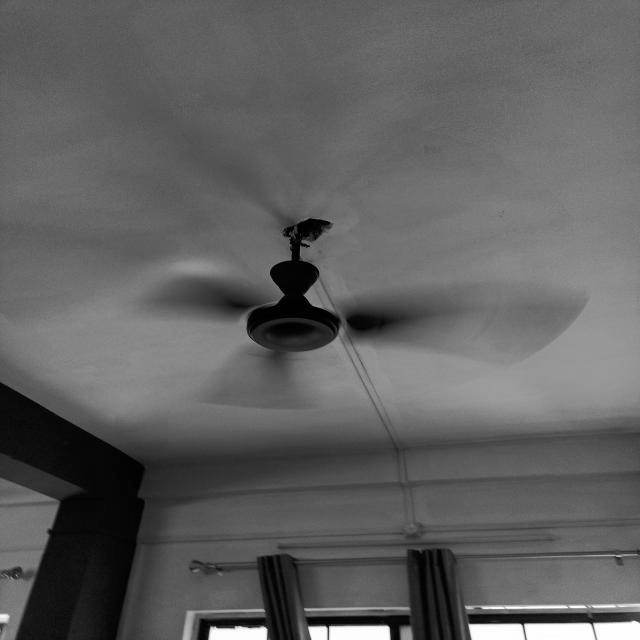fan: (136, 216, 589, 410)
